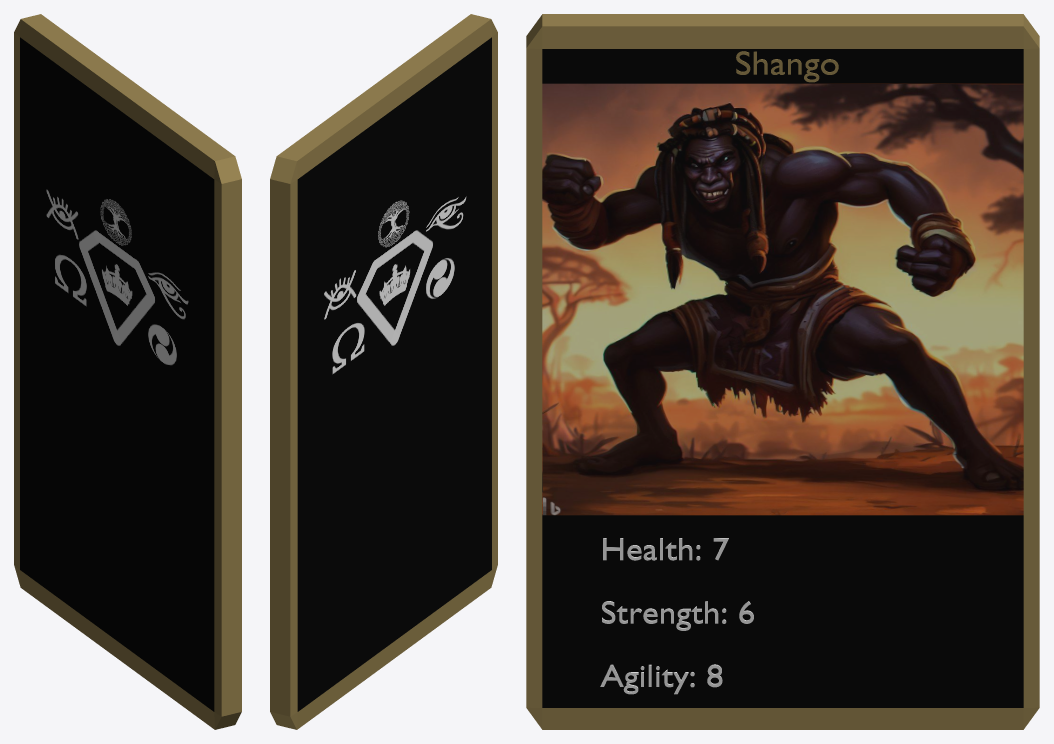
Rendered from Shango.fbx.
3 renders of one model, left to right at view 1: azimuth 30°, elevation 25°; view 2: azimuth 150°, elevation 25°; view 3: azimuth 270°, elevation 25°, orthographic. The views are drawn at different scales.
Visible parts, largest first — view 1: Shango; view 2: Shango; view 3: Shango.
Boxes of the visible parts, x1,y1,x2,y2 form: Shango: (14, 14, 241, 729); Shango: (270, 14, 497, 729); Shango: (526, 14, 1039, 729).
Bounding box in the file's own units: 20.45 × 482 × 319.
Materials: 5 (2 with a texture image).
